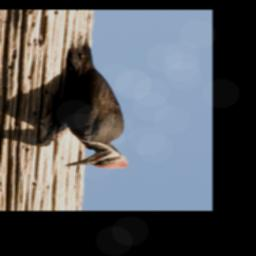Woodpecker: (38, 36, 130, 169)
